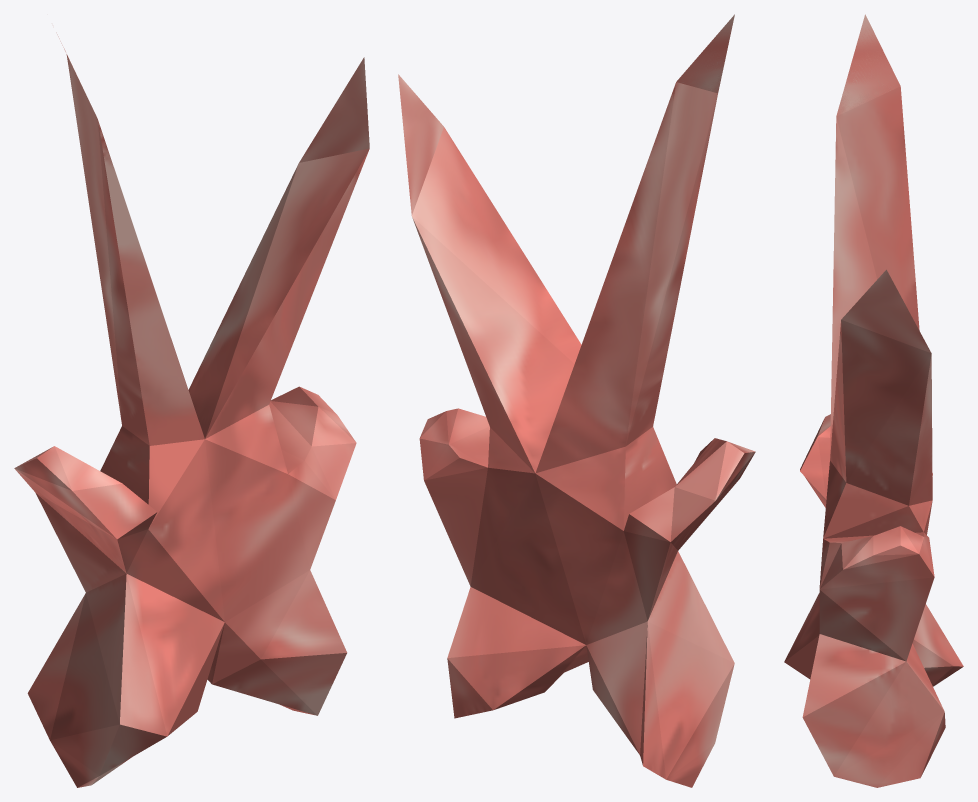
The model's file is art_crystal.obj.
3 views of the same model, side by side, from view 1: azimuth 30°, elevation 25°; view 2: azimuth 150°, elevation 25°; view 3: azimuth 270°, elevation 25° (orthographic). The views are drawn at different scales.
Parts seen in each view (by area): view 1: art_crystal_Cube; view 2: art_crystal_Cube; view 3: art_crystal_Cube.
Boxes of the visible parts, bbox=[...] form: art_crystal_Cube: bbox=[14, 32, 369, 787]; art_crystal_Cube: bbox=[398, 14, 755, 787]; art_crystal_Cube: bbox=[784, 14, 963, 787].
Size of the model in its own units: 2.95 by 6.56 by 1.55.
